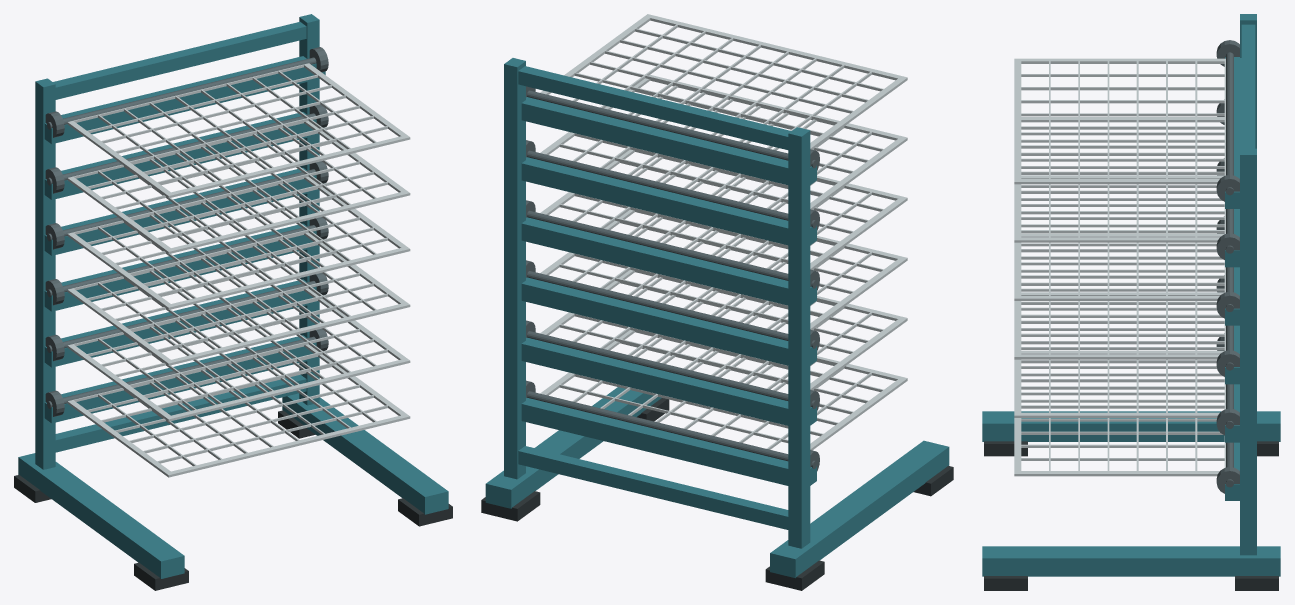
The picture shows the model from 3 angles, left to right: view 1: azimuth 30°, elevation 25°; view 2: azimuth 150°, elevation 25°; view 3: azimuth 270°, elevation 25°; orthographic projection. The views are drawn at different scales.
Parts seen in each view (by area): view 1: Tray_06_WeldedOpenGrid, Tray_03_WeldedOpenGrid, Tray_04_WeldedOpenGrid, Tray_01_WeldedOpenGrid, Tray_05_WeldedOpenGrid, Tray_02_WeldedOpenGrid, RearSpine_Left, BaseSkid_Left, BaseSkid_Right, RearCrossbar_Upper, Stop_06_RearBearer, Stop_05_RearBearer (+14 smaller); view 2: Tray_06_WeldedOpenGrid, RearSpine_Left, RearSpine_Right, BaseSkid_Left, Stop_03_RearBearer, Stop_04_RearBearer, Stop_06_RearBearer, Stop_01_RearBearer, Stop_02_RearBearer, Stop_05_RearBearer, Tray_05_WeldedOpenGrid, Tray_03_WeldedOpenGrid (+14 smaller); view 3: Tray_06_WeldedOpenGrid, Tray_05_WeldedOpenGrid, Tray_03_WeldedOpenGrid, Tray_01_WeldedOpenGrid, Tray_02_WeldedOpenGrid, BaseSkid_Right, Tray_04_WeldedOpenGrid, RearSpine_Right, BaseSkid_Left, RearCrossbar_Upper, Stop_06_RearBearer, Axle_06_FixedRear (+10 smaller).
Boxes of the visible parts, left/top/right/bottom form: Tray_06_WeldedOpenGrid: left=67, top=63, right=410, bottom=198; Tray_03_WeldedOpenGrid: left=67, top=232, right=410, bottom=365; Tray_04_WeldedOpenGrid: left=67, top=177, right=410, bottom=309; Tray_01_WeldedOpenGrid: left=67, top=344, right=410, bottom=477; Tray_05_WeldedOpenGrid: left=67, top=121, right=410, bottom=254; Tray_02_WeldedOpenGrid: left=67, top=288, right=410, bottom=421; RearSpine_Left: left=35, top=78, right=55, bottom=469; BaseSkid_Left: left=18, top=453, right=184, bottom=578; BaseSkid_Right: left=282, top=393, right=448, bottom=514; RearCrossbar_Upper: left=53, top=22, right=306, bottom=99; Stop_06_RearBearer: left=44, top=56, right=325, bottom=144; Stop_05_RearBearer: left=44, top=112, right=319, bottom=199; Tray_06_WeldedOpenGrid: left=540, top=14, right=907, bottom=149; RearSpine_Left: left=788, top=127, right=810, bottom=548; RearSpine_Right: left=504, top=58, right=525, bottom=479; BaseSkid_Left: left=770, top=440, right=949, bottom=578; Stop_03_RearBearer: left=521, top=277, right=816, bottom=365; Stop_04_RearBearer: left=521, top=217, right=816, bottom=305; Stop_06_RearBearer: left=521, top=97, right=816, bottom=185; Stop_01_RearBearer: left=521, top=397, right=816, bottom=485; Stop_02_RearBearer: left=521, top=337, right=816, bottom=425; Stop_05_RearBearer: left=521, top=157, right=816, bottom=245; Tray_05_WeldedOpenGrid: left=540, top=74, right=907, bottom=209; Tray_03_WeldedOpenGrid: left=540, top=209, right=907, bottom=329; Tray_06_WeldedOpenGrid: left=1014, top=58, right=1225, bottom=184; Tray_05_WeldedOpenGrid: left=1014, top=117, right=1225, bottom=242; Tray_03_WeldedOpenGrid: left=1014, top=233, right=1225, bottom=359; Tray_01_WeldedOpenGrid: left=1014, top=350, right=1225, bottom=476; Tray_02_WeldedOpenGrid: left=1014, top=292, right=1225, bottom=417; BaseSkid_Right: left=982, top=546, right=1280, bottom=576; Tray_04_WeldedOpenGrid: left=1014, top=175, right=1225, bottom=300; RearSpine_Right: left=1240, top=148, right=1256, bottom=555; BaseSkid_Left: left=982, top=411, right=1280, bottom=441; RearCrossbar_Upper: left=1241, top=24, right=1255, bottom=148; Stop_06_RearBearer: left=1225, top=57, right=1241, bottom=208; Axle_06_FixedRear: left=1225, top=52, right=1233, bottom=195.
Bounding box in the file's own units: 1.06 × 1.4 × 0.88.
